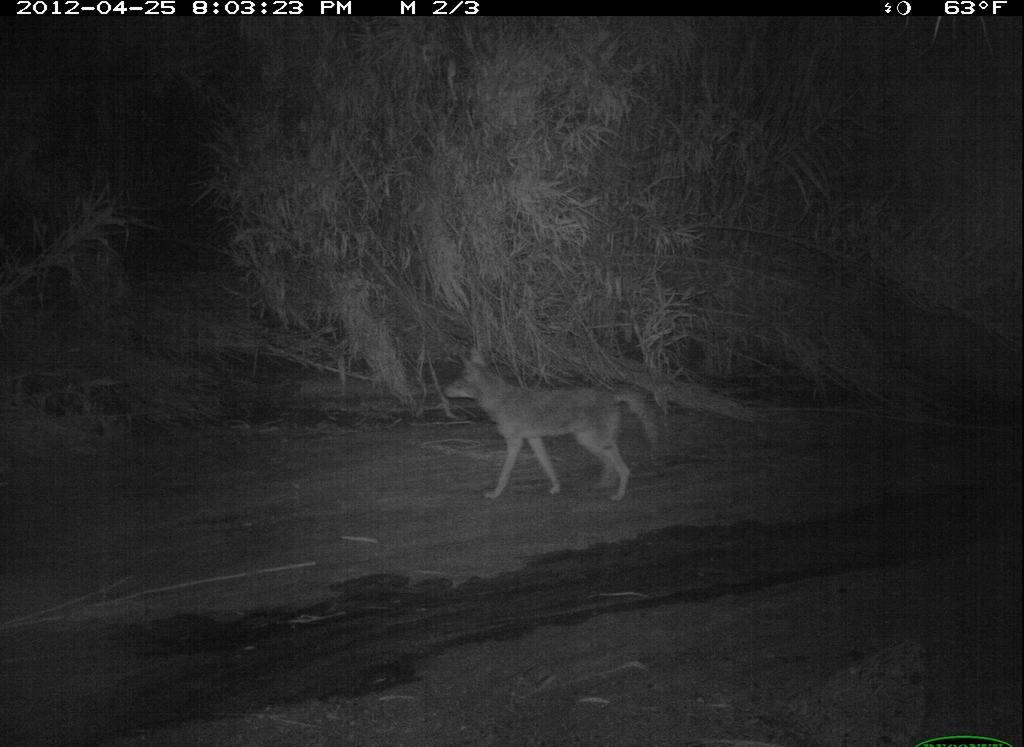coyote: (440, 344, 671, 510)
